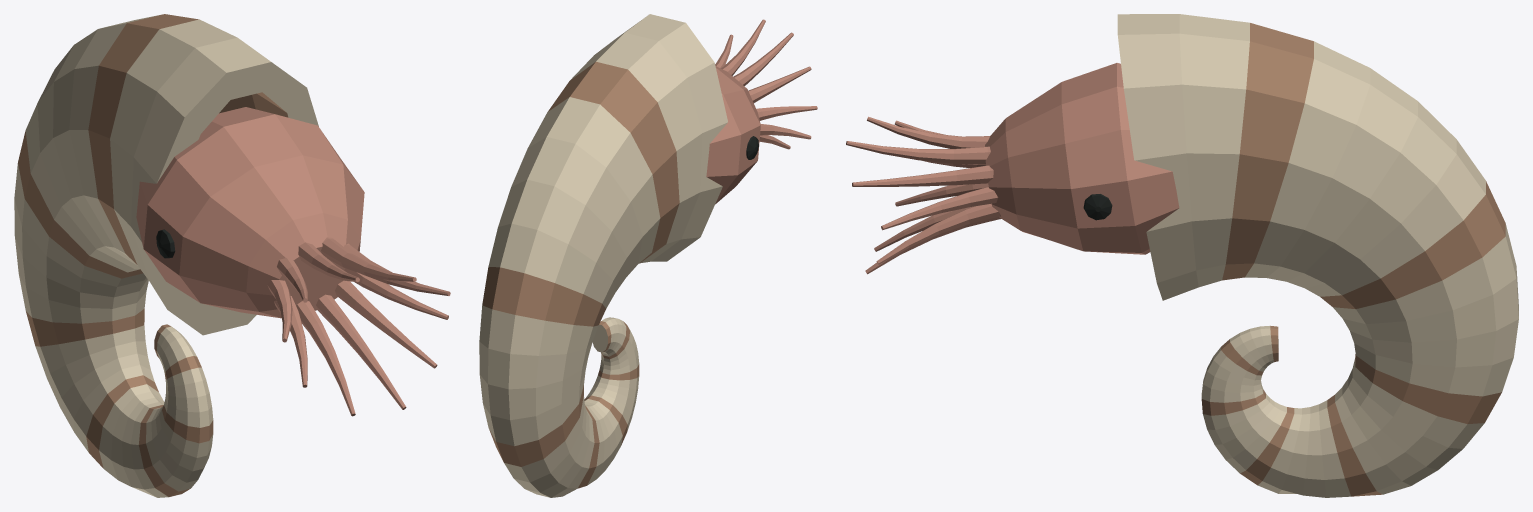
3 views of the same model, side by side, from view 1: azimuth 30°, elevation 25°; view 2: azimuth 150°, elevation 25°; view 3: azimuth 270°, elevation 25° (orthographic). The views are drawn at different scales.
Parts seen in each view (by area): view 1: WholeExpandingCoiledShellWithThickBlindAperture, WholeRoundedHoodAndProtrudingHead, WholeForwardUnequalTentacle8, WholeForwardUnequalTentacle9, WholeForwardUnequalTentacle7, WholeForwardUnequalTentacle2, WholeForwardUnequalTentacle0, WholeForwardUnequalTentacle3, WholeForwardUnequalTentacle6, WholeForwardUnequalTentacle5, WholeForwardUnequalTentacle1, WholeForwardUnequalTentacle4; view 2: WholeExpandingCoiledShellWithThickBlindAperture, WholeRoundedHoodAndProtrudingHead, WholeForwardUnequalTentacle3, WholeForwardUnequalTentacle4, WholeForwardUnequalTentacle2, WholeForwardUnequalTentacle5, WholeForwardUnequalTentacle6; view 3: WholeExpandingCoiledShellWithThickBlindAperture, WholeRoundedHoodAndProtrudingHead, WholeForwardUnequalTentacle2, WholeForwardUnequalTentacle1, WholeForwardUnequalTentacle9, WholeForwardUnequalTentacle0, WholeForwardUnequalTentacle3, WholeForwardUnequalTentacle6, WholeForwardUnequalTentacle7.
Boxes of the visible parts, bbox=[...] form: WholeExpandingCoiledShellWithThickBlindAperture: bbox=[14, 14, 318, 497]; WholeRoundedHoodAndProtrudingHead: bbox=[136, 107, 364, 318]; WholeForwardUnequalTentacle8: bbox=[316, 294, 406, 409]; WholeForwardUnequalTentacle9: bbox=[335, 280, 437, 368]; WholeForwardUnequalTentacle7: bbox=[296, 301, 355, 416]; WholeForwardUnequalTentacle2: bbox=[321, 237, 416, 281]; WholeForwardUnequalTentacle0: bbox=[344, 268, 448, 319]; WholeForwardUnequalTentacle3: bbox=[298, 242, 359, 282]; WholeForwardUnequalTentacle6: bbox=[274, 296, 307, 387]; WholeForwardUnequalTentacle5: bbox=[267, 280, 292, 342]; WholeForwardUnequalTentacle1: bbox=[344, 243, 450, 295]; WholeForwardUnequalTentacle4: bbox=[277, 257, 307, 302]; WholeExpandingCoiledShellWithThickBlindAperture: bbox=[479, 14, 727, 497]; WholeRoundedHoodAndProtrudingHead: bbox=[706, 66, 760, 204]; WholeForwardUnequalTentacle3: bbox=[733, 32, 793, 85]; WholeForwardUnequalTentacle4: bbox=[748, 66, 811, 102]; WholeForwardUnequalTentacle2: bbox=[721, 19, 765, 75]; WholeForwardUnequalTentacle5: bbox=[756, 106, 817, 120]; WholeForwardUnequalTentacle6: bbox=[760, 124, 811, 139]; WholeExpandingCoiledShellWithThickBlindAperture: bbox=[1117, 14, 1518, 497]; WholeRoundedHoodAndProtrudingHead: bbox=[985, 63, 1179, 254]; WholeForwardUnequalTentacle2: bbox=[846, 141, 990, 164]; WholeForwardUnequalTentacle1: bbox=[852, 165, 993, 186]; WholeForwardUnequalTentacle9: bbox=[876, 203, 1000, 264]; WholeForwardUnequalTentacle0: bbox=[881, 186, 998, 230]; WholeForwardUnequalTentacle3: bbox=[867, 116, 989, 148]; WholeForwardUnequalTentacle6: bbox=[895, 183, 988, 206]; WholeForwardUnequalTentacle7: bbox=[874, 206, 974, 251].
Size of the model in its own units: 0.358 by 0.8482 by 1.11.
